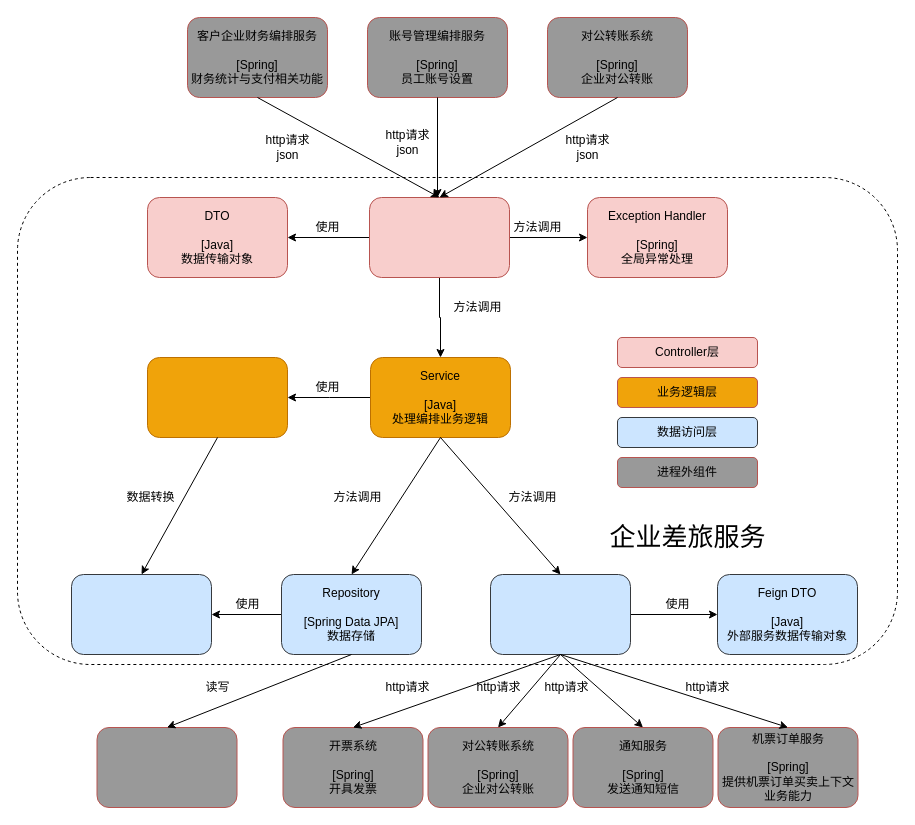
This 915x825 diagram has some shape labels left out. The shapes that lost their labels are listed below. From the top down, each one's centre as x and y in pixels, then its label:
the point at 439,237: Controller [Spring] 处理http请求
the point at 217,397: Model [Java] 封装业务逻辑
the point at 141,614: Entity [Hibernate] 数据持久化对象
the point at 560,614: Http Client [Feign] 调用外部服务
the point at 166,767: 数据库 [MySQL] 数据存储
